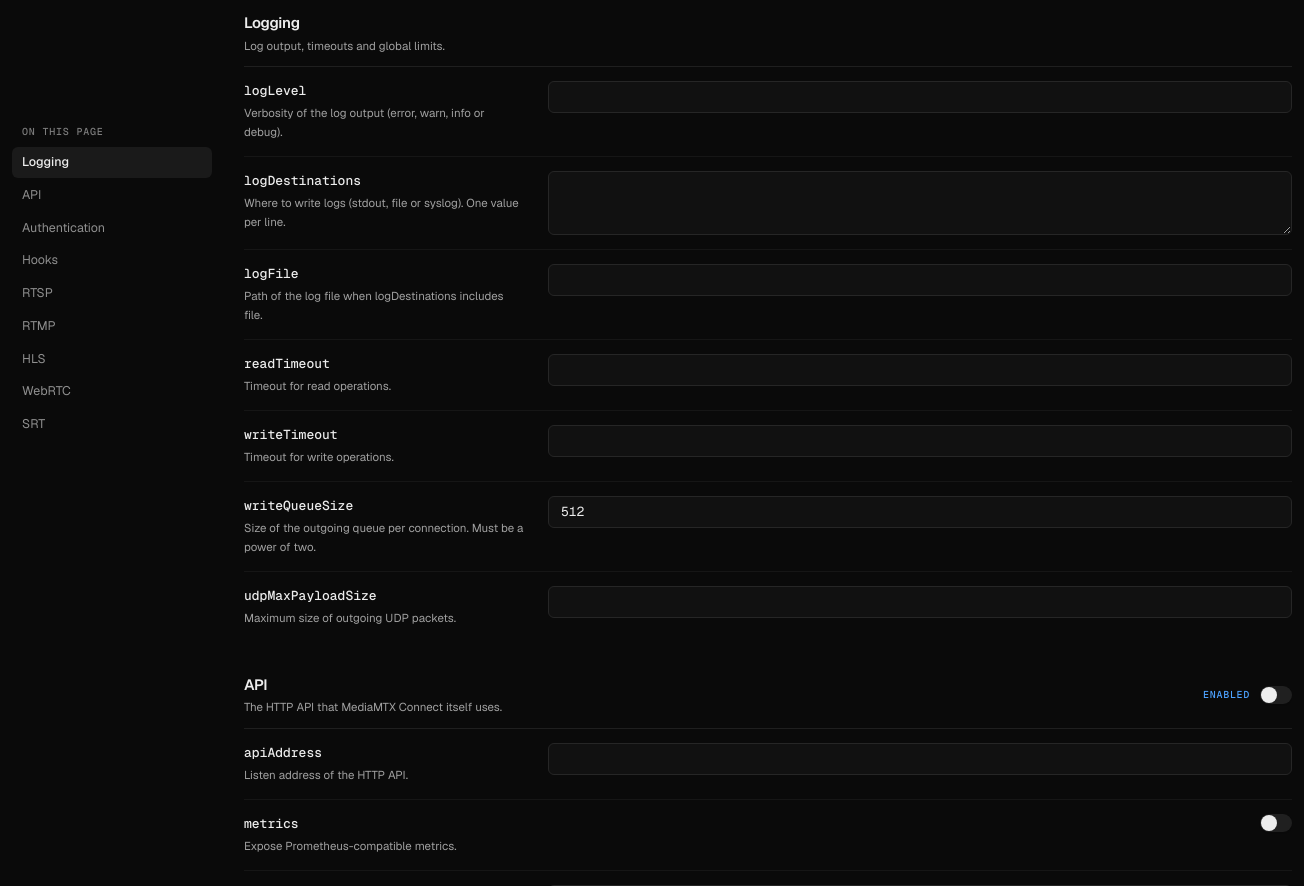
Test case: cleared global fields › marks an emptied number field required and holds the save
This screenshot has width=1304, height=886.
Clear the number field named "writeQueueSize": (920, 512) [548,496,1292,528]
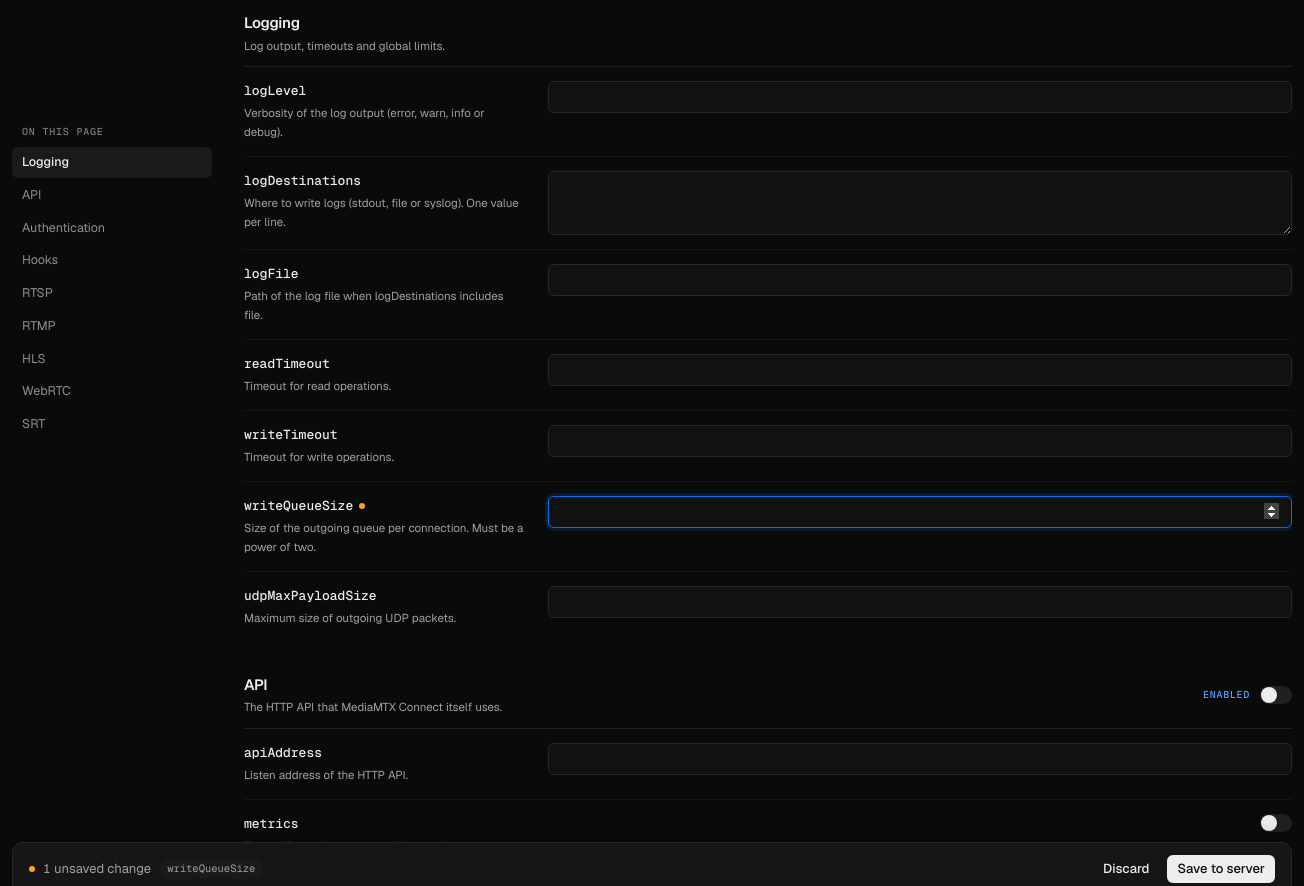
Press Tab
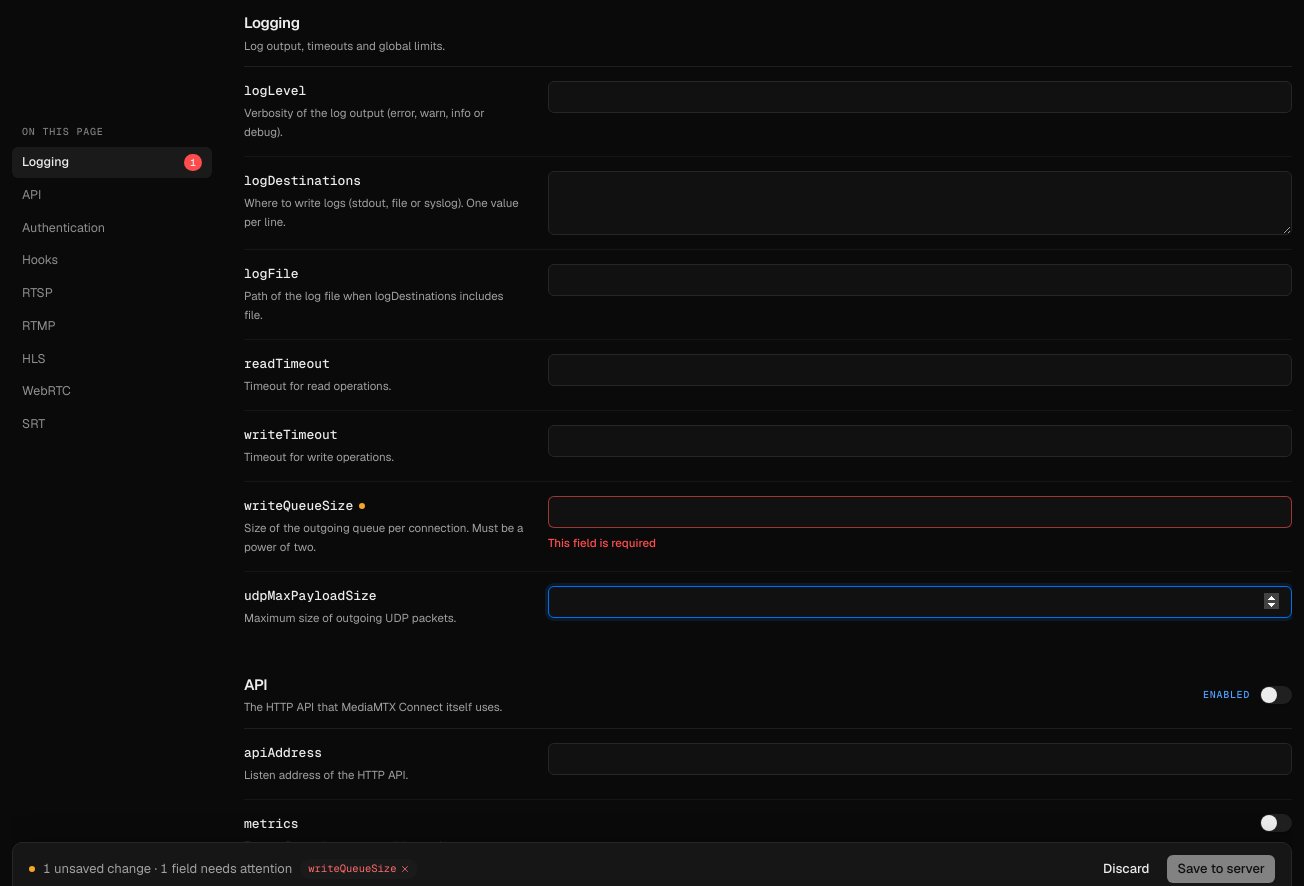
Expected: the text "This field is required" is shown, [548,535,656,550]
Expected: the text "1 unsaved change · 1 field needs attention" is shown, [43,859,292,879]
Expected: the button "Save to server" is disabled, [1168,855,1275,883]
